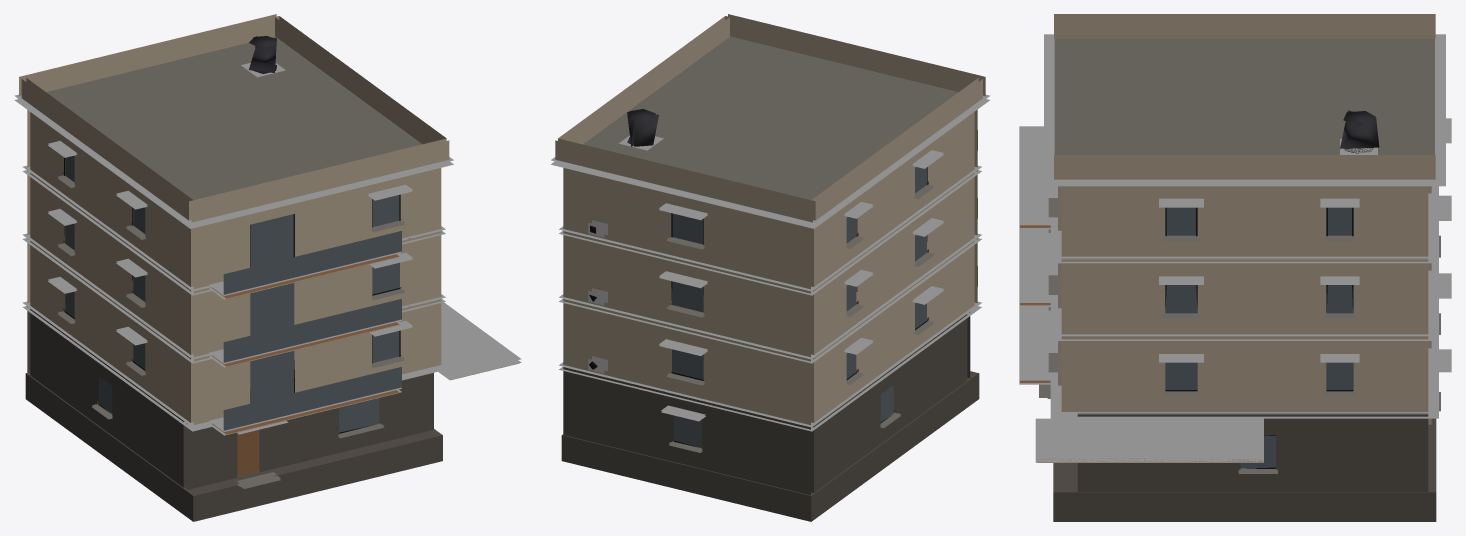
Rendered from city_house_12x14_4_far.glb.
3 views of the same model, side by side, from view 1: azimuth 30°, elevation 25°; view 2: azimuth 150°, elevation 25°; view 3: azimuth 270°, elevation 25° (orthographic). The views are drawn at different scales.
Visible parts, largest first — view 1: city_house_12x14_4; view 2: city_house_12x14_4; view 3: city_house_12x14_4.
Boxes of the visible parts, left/top/right/bottom form: city_house_12x14_4: left=14, top=14, right=521, bottom=521; city_house_12x14_4: left=551, top=14, right=989, bottom=521; city_house_12x14_4: left=1019, top=14, right=1451, bottom=521.
Bounding box in the file's own units: 16.11 × 15.4 × 15.91.
